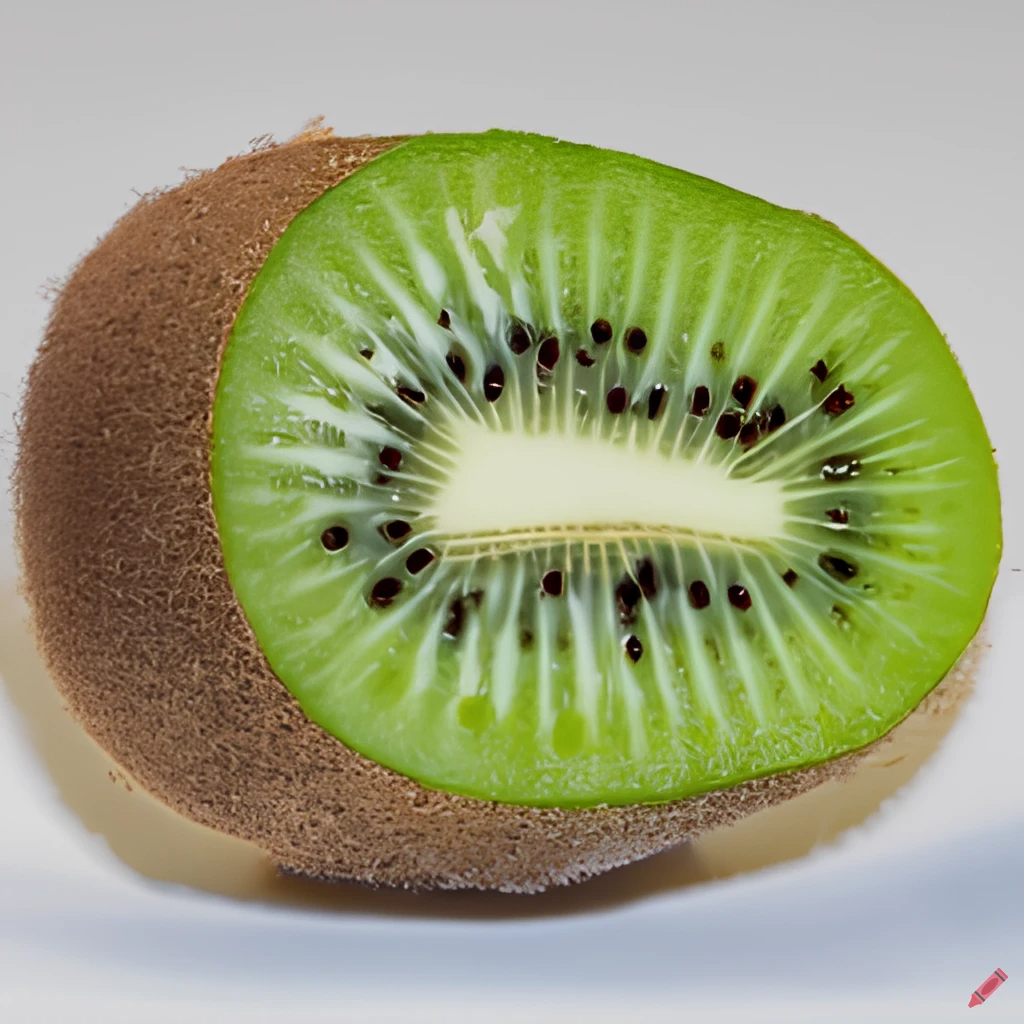Kiwi: (0, 112, 1012, 912)
